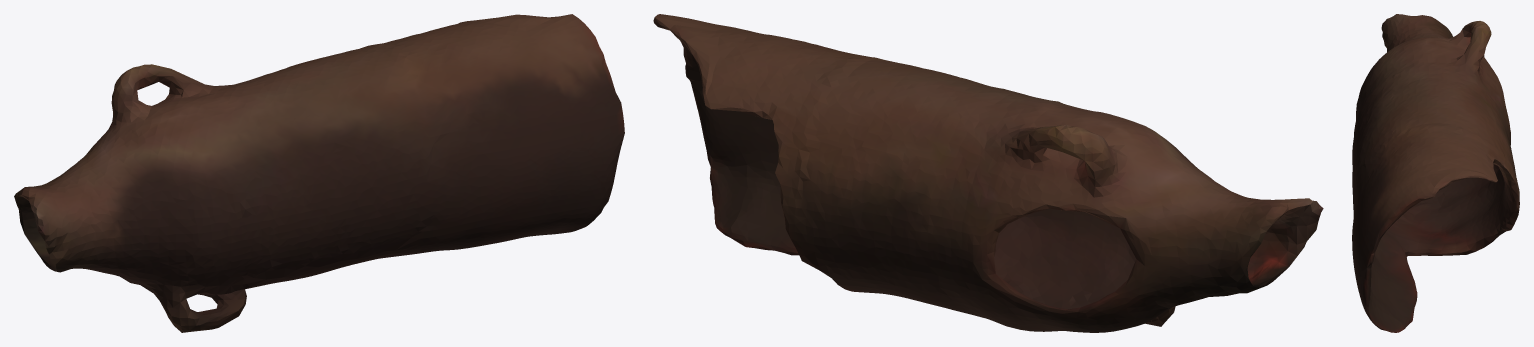
The picture shows the model from 3 angles, left to right: view 1: azimuth 30°, elevation 25°; view 2: azimuth 150°, elevation 25°; view 3: azimuth 270°, elevation 25°; orthographic projection. The views are drawn at different scales.
Parts seen in each view (by area): view 1: model11-1; view 2: model11-1; view 3: model11-1.
Boxes of the visible parts, x1,y1,x2,y2 form: model11-1: (14, 14, 624, 332); model11-1: (653, 14, 1323, 332); model11-1: (1352, 14, 1519, 332).
Size of the model in its own units: 2.51 by 0.916 by 0.817.
